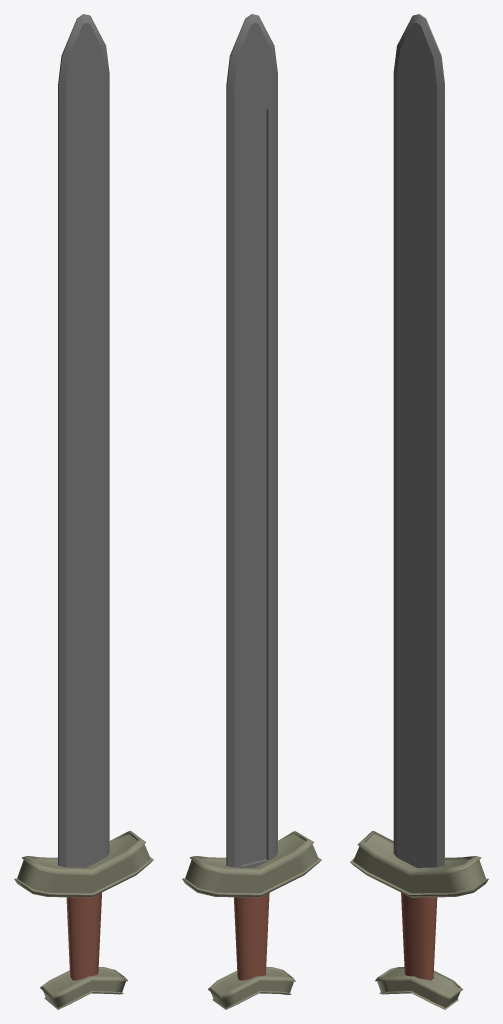
File: sword.fbx
The picture shows the model from 3 angles, left to right: view 1: azimuth 30°, elevation 25°; view 2: azimuth 210°, elevation 25°; view 3: azimuth 330°, elevation 25°; orthographic projection.
Parts seen in each view (by area): view 1: Cube, guard, handle, Cube.002; view 2: Cube, guard, handle, Cube.002; view 3: Cube, guard, handle, Cube.002.
Part boxes in pixels (bbox=[...]): Cube: bbox=[58, 14, 109, 867]; guard: bbox=[14, 831, 153, 897]; handle: bbox=[66, 892, 101, 980]; Cube.002: bbox=[40, 967, 127, 1009]; Cube: bbox=[226, 14, 277, 868]; guard: bbox=[182, 831, 321, 897]; handle: bbox=[234, 893, 269, 980]; Cube.002: bbox=[208, 967, 295, 1009]; Cube: bbox=[393, 14, 444, 867]; guard: bbox=[350, 831, 488, 897]; handle: bbox=[401, 892, 437, 980]; Cube.002: bbox=[375, 967, 462, 1009].
Size of the model in its own units: 17.04 by 62.07 by 470.
